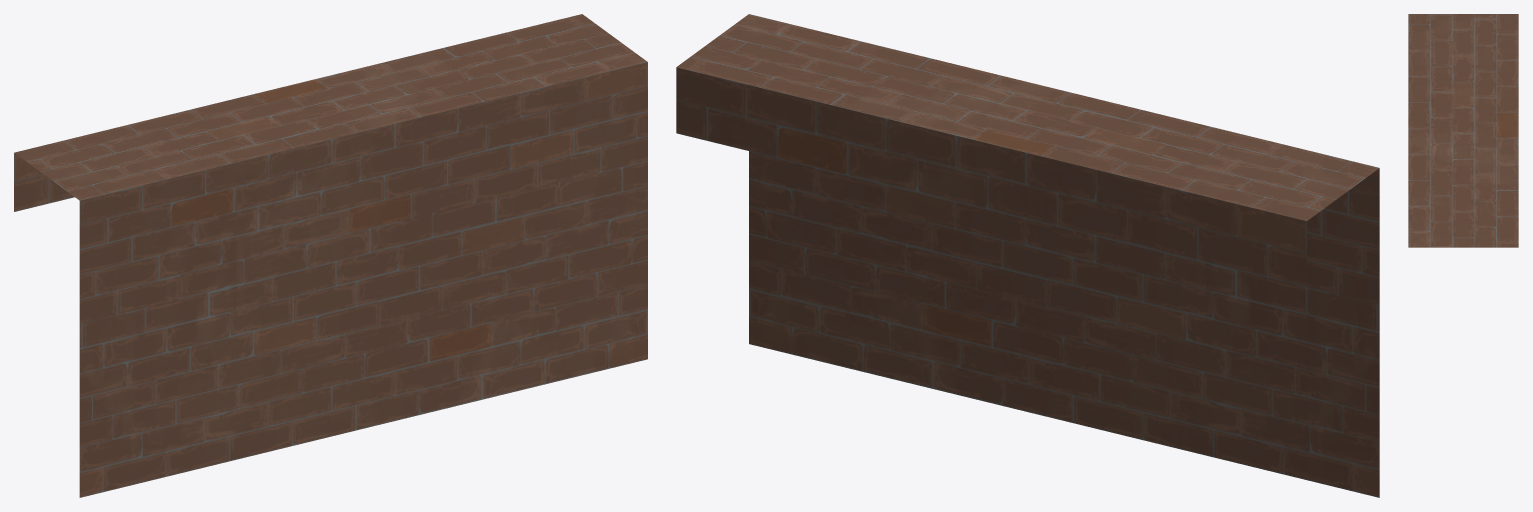
The model's file is q-downtown-cornice-brick-center.glb.
3 views of the same model, side by side, from view 1: azimuth 30°, elevation 25°; view 2: azimuth 150°, elevation 25°; view 3: azimuth 270°, elevation 25° (orthographic). The views are drawn at different scales.
Visible parts, largest first — view 1: Cornice_Brick_Center; view 2: Cornice_Brick_Center; view 3: Cornice_Brick_Center.
Boxes of the visible parts, box(x1,y1,x2,y2) form: Cornice_Brick_Center: box(14, 14, 647, 497); Cornice_Brick_Center: box(676, 14, 1379, 497); Cornice_Brick_Center: box(1408, 14, 1518, 247).
Size of the model in its own units: 2 by 1 by 0.4.
1 material, 1 textured.
